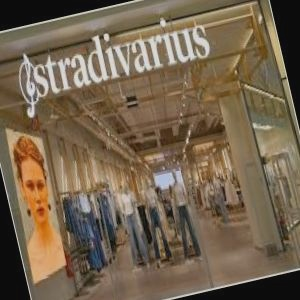stradivarius: (220, 3, 224, 9)
